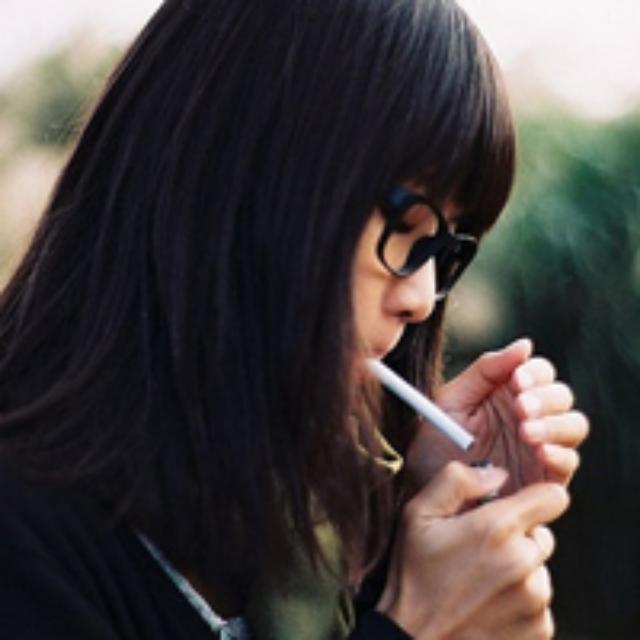Cigarette: (364, 356, 480, 460)
